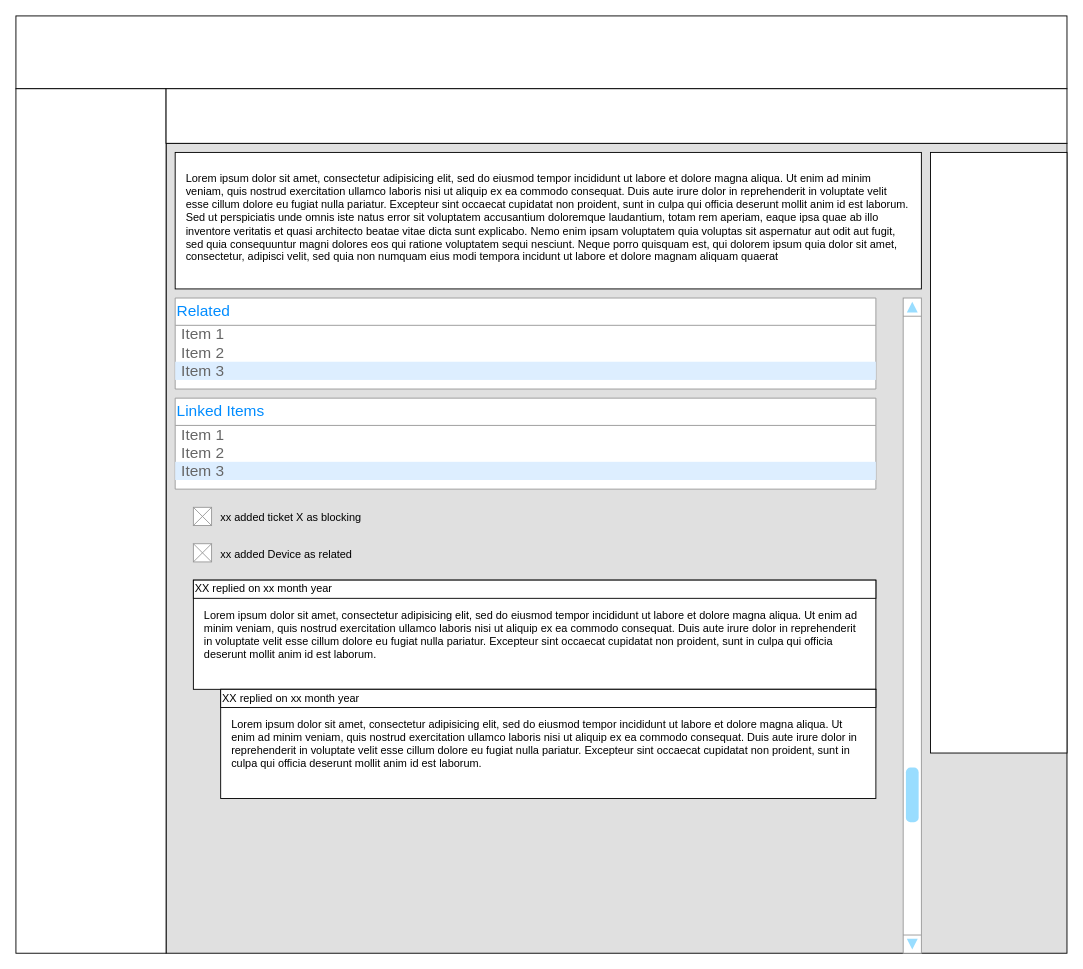
Image size: 1083x969. Some labels were removed from this diagram. The centre of each missing label's shape, as x and y in pixels:
"<Type> <Title>" belongs at (616,115).
"Metadata ??" belongs at (998,452).
"Navigation" belongs at (90,520).
